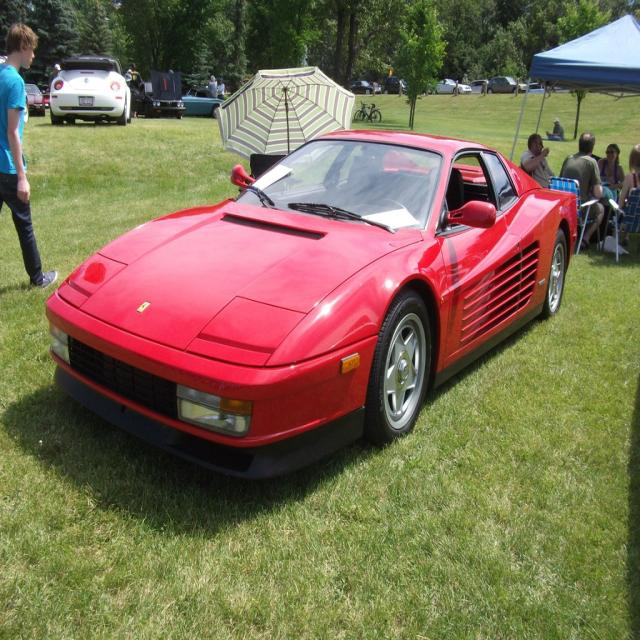car: (47, 124, 577, 484), (49, 56, 130, 121)
